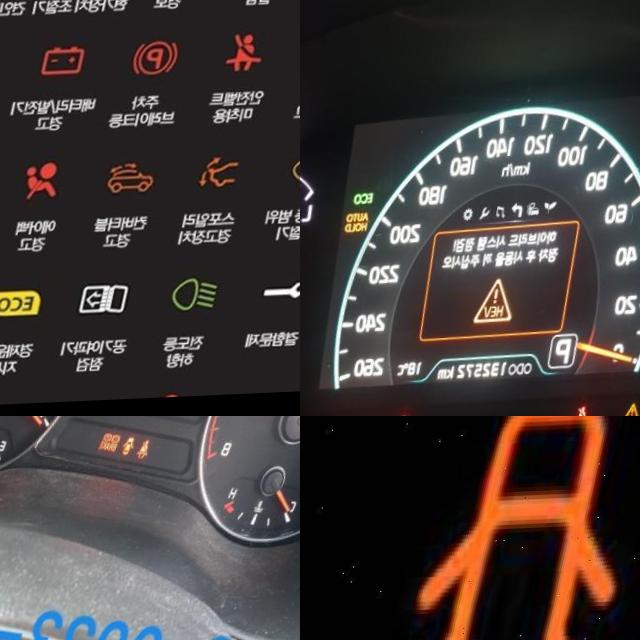Doors: (138, 437, 156, 458)
Low beam: (195, 280, 247, 316)
